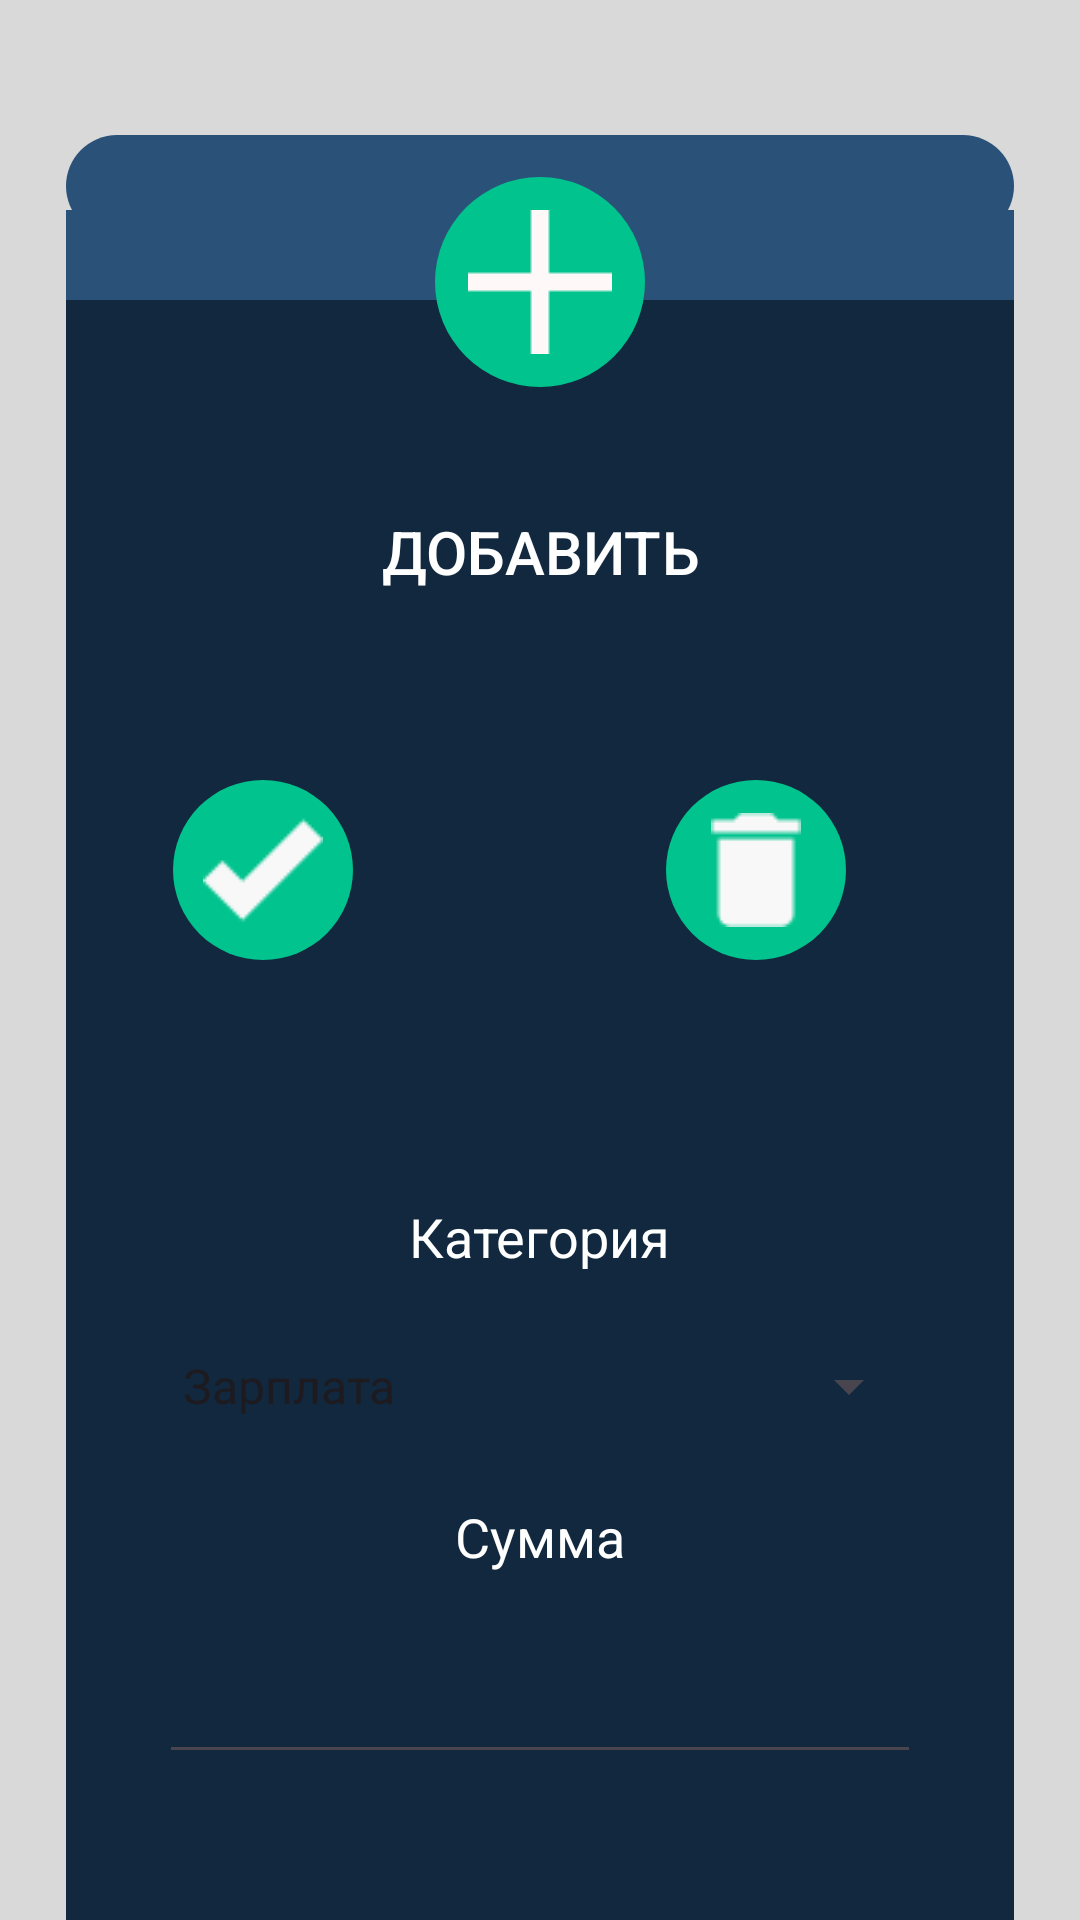

Screen size 1080×1920. Icon name, then its center in pixels as (x=x, y=y):
add bin: (x=756, y=870)
add ok: (x=263, y=870)
add plus: (x=540, y=282)
